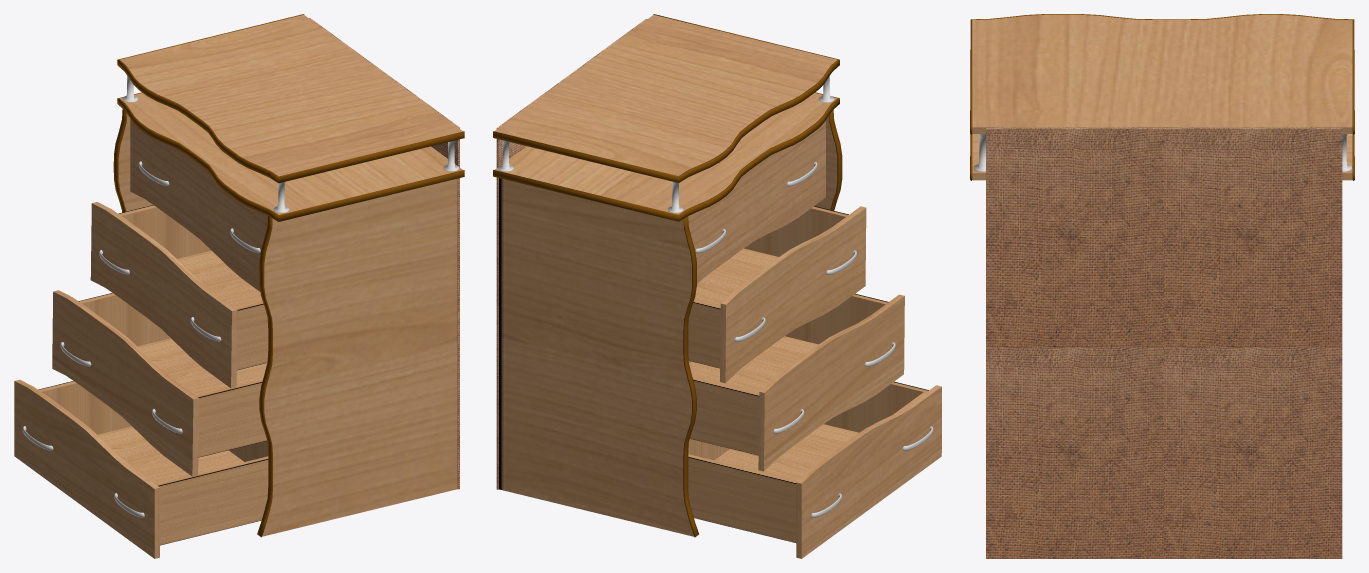
Rendered from commode.glb.
3 renders of one model, left to right at view 1: azimuth 30°, elevation 25°; view 2: azimuth 150°, elevation 25°; view 3: azimuth 270°, elevation 25°, orthographic. The views are drawn at different scales.
Visible parts, largest first — view 1: Box001, Box006, Object003_Beech 2 Satin_0, Object004_Beech 2 Satin_0, Object005_Beech 2 Satin_0, Object002_Beech 2 Satin_0, Box005, Object001_Oak Satin_0, Box004, Box002; view 2: Box001, Box006, Object004_Beech 2 Satin_0, Object003_Beech 2 Satin_0, Object005_Beech 2 Satin_0, Object002_Beech 2 Satin_0, Box005, Object001_Oak Satin_0, Box004, Box002; view 3: Box002, Box001, Object001_Oak Satin_0, Cylinder002.
Boxes of the visible parts, left/top/right/bottom form: Box001: left=118, top=15, right=462, bottom=536; Box006: left=38, top=381, right=268, bottom=545; Object003_Beech 2 Satin_0: left=90, top=202, right=237, bottom=388; Object004_Beech 2 Satin_0: left=52, top=290, right=198, bottom=476; Object005_Beech 2 Satin_0: left=14, top=379, right=160, bottom=558; Object002_Beech 2 Satin_0: left=130, top=119, right=267, bottom=291; Box005: left=78, top=293, right=267, bottom=457; Object001_Oak Satin_0: left=113, top=14, right=464, bottom=537; Box004: left=118, top=205, right=268, bottom=370; Box002: left=309, top=18, right=459, bottom=489; Box001: left=495, top=14, right=837, bottom=536; Box006: left=688, top=381, right=928, bottom=542; Object004_Beech 2 Satin_0: left=758, top=294, right=904, bottom=471; Object003_Beech 2 Satin_0: left=720, top=206, right=866, bottom=383; Object005_Beech 2 Satin_0: left=796, top=385, right=941, bottom=558; Object002_Beech 2 Satin_0: left=688, top=120, right=825, bottom=283; Box005: left=688, top=293, right=888, bottom=455; Object001_Oak Satin_0: left=493, top=14, right=842, bottom=537; Box004: left=688, top=206, right=848, bottom=368; Box002: left=496, top=19, right=646, bottom=489; Box002: left=986, top=127, right=1342, bottom=558; Box001: left=972, top=14, right=1352, bottom=180; Object001_Oak Satin_0: left=970, top=14, right=1354, bottom=180; Cylinder002: left=974, top=134, right=1351, bottom=171.
Bounding box in the file's own units: 101 × 114 × 92.26.
Materials: 4 (2 with a texture image).
